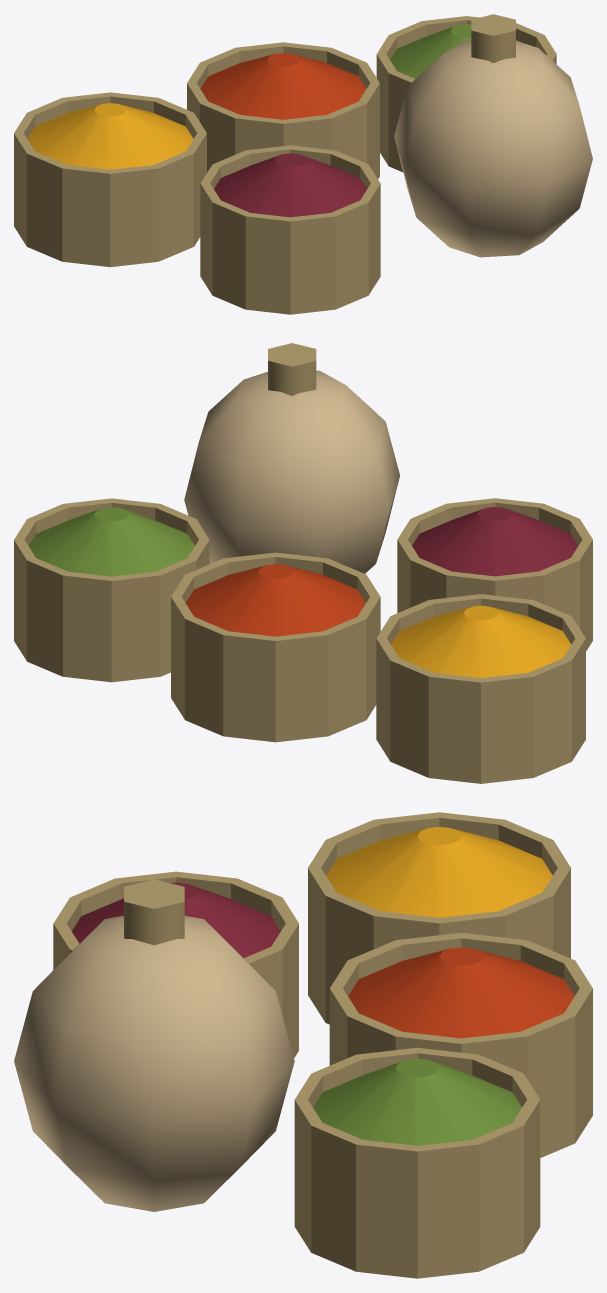
File: dc_spice_baskets.glb
The picture shows the model from 3 angles, top to bottom: view 1: azimuth 30°, elevation 25°; view 2: azimuth 150°, elevation 25°; view 3: azimuth 270°, elevation 25°; orthographic projection. The views are drawn at different scales.
Visible parts, largest first — view 1: dc_spice_baskets; view 2: dc_spice_baskets; view 3: dc_spice_baskets.
Boxes of the visible parts, x1,y1,x2,y2 form: dc_spice_baskets: (14,14,592,314); dc_spice_baskets: (14,343,592,783); dc_spice_baskets: (14,812,592,1278).
Size of the model in its own units: 1.83 by 0.772 by 1.32.
